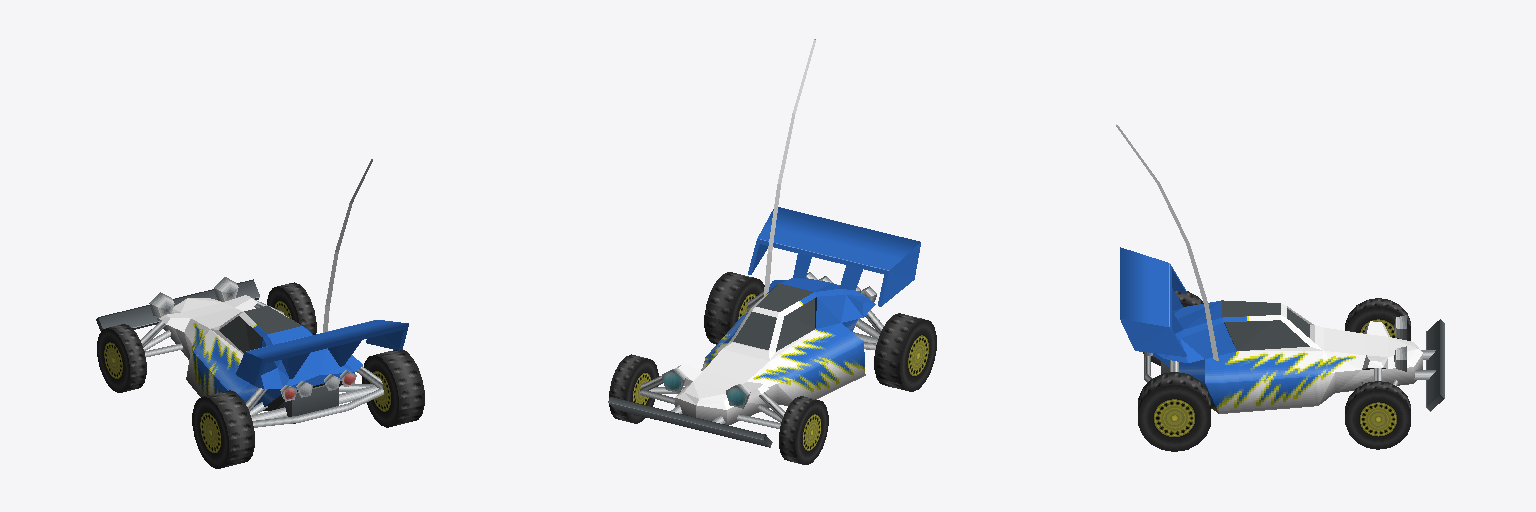
3 views of the same model, side by side, from view 1: azimuth 30°, elevation 25°; view 2: azimuth 150°, elevation 25°; view 3: azimuth 270°, elevation 25° (orthographic).
Parts seen in each view (by area): view 1: dune_vShape_dune_vShape.002, wShape1.001_wShape1.005, wShape1_wShape1.004, wShape2_wShape2.004, windShape_windShape.002, wShape2.001_wShape2.005; view 2: dune_vShape_dune_vShape.002, wShape1.001_wShape1.005, windShape_windShape.002, wShape2_wShape2.004, wShape1_wShape1.004, wShape2.001_wShape2.005; view 3: dune_vShape_dune_vShape.002, wShape1_wShape1.004, wShape2.001_wShape2.005, windShape_windShape.002, wShape2_wShape2.004.
Part boxes in pixels (x1,y1,x2,y2): dune_vShape_dune_vShape.002: (96,159,408,427); wShape1.001_wShape1.005: (192,390,254,468); wShape1_wShape1.004: (362,350,424,427); wShape2_wShape2.004: (97,324,146,392); windShape_windShape.002: (219,306,301,352); wShape2.001_wShape2.005: (267,282,316,334); dune_vShape_dune_vShape.002: (608,39,920,447); wShape1.001_wShape1.005: (874,313,936,391); windShape_windShape.002: (733,284,814,351); wShape2_wShape2.004: (779,396,828,464); wShape1_wShape1.004: (704,272,764,344); wShape2.001_wShape2.005: (609,354,658,423); dune_vShape_dune_vShape.002: (1116,124,1444,413); wShape1_wShape1.004: (1138,372,1210,451); wShape2.001_wShape2.005: (1345,381,1410,449); windShape_windShape.002: (1222,300,1309,350); wShape2_wShape2.004: (1345,298,1410,340).
Size of the model in its own units: 1.17 by 1.7 by 1.71.
Materials: 2 (1 with a texture image).